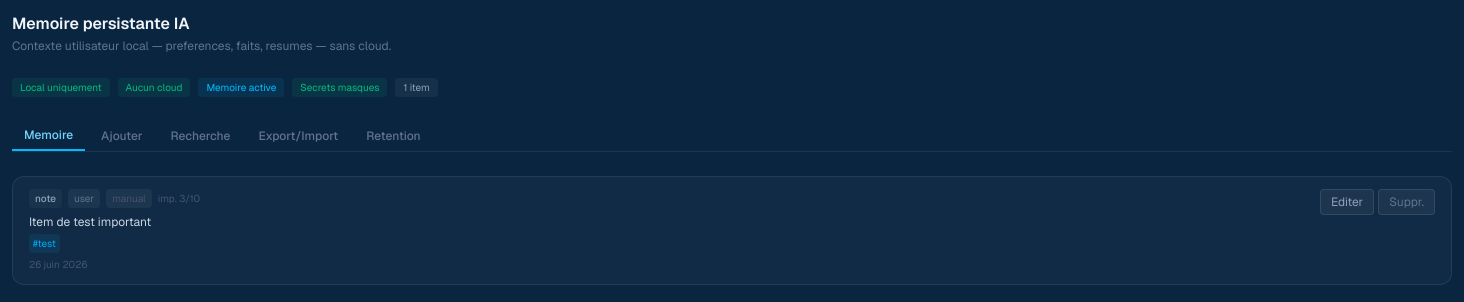
Test: AiMemoryPanel › bascule vers l'onglet Recherche
The image size is (1464, 302).
Step 1. Click the button "Recherche" → [201, 136], box [159, 121, 242, 151]
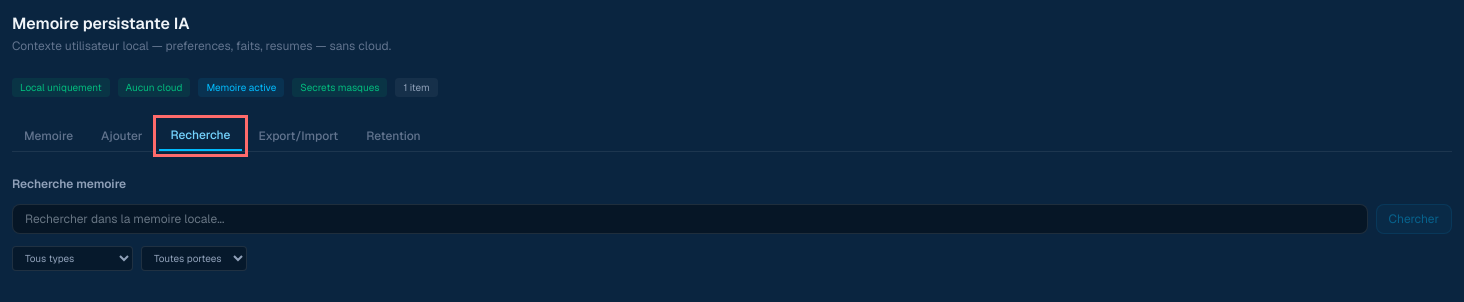
Expected: the field named "Recherche dans la memoire" is shown, [12, 204, 1368, 234]
